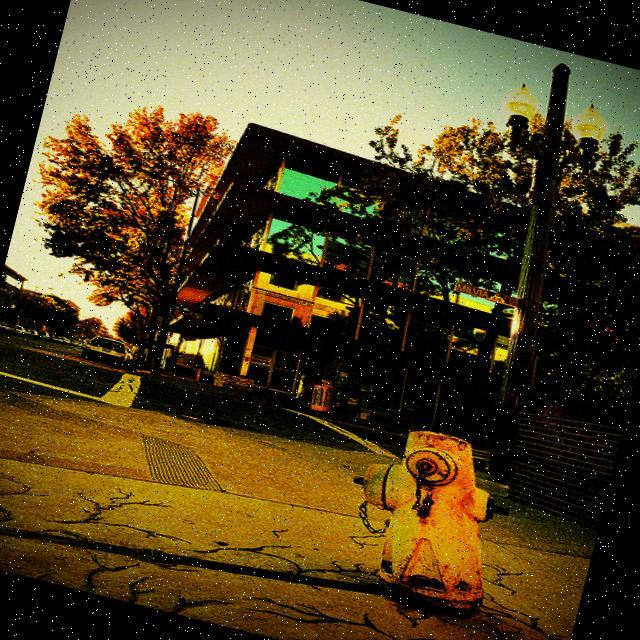fire_hydrant: (326, 416, 522, 620)
